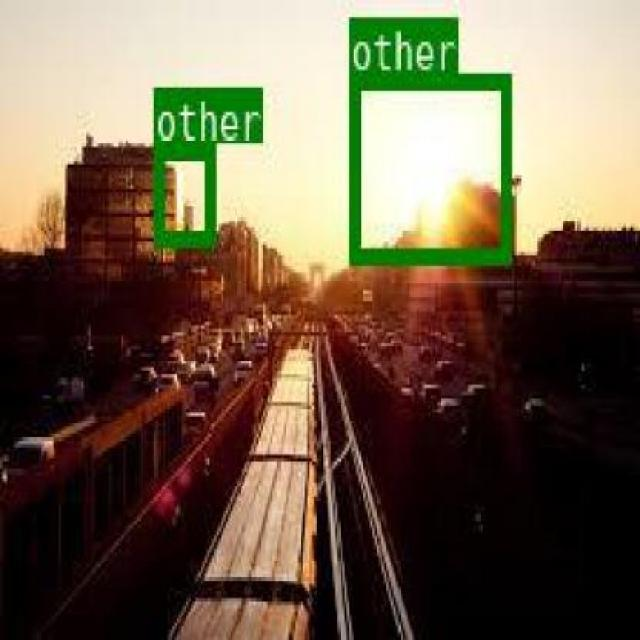other: (347, 70, 507, 261), (153, 141, 213, 242)
